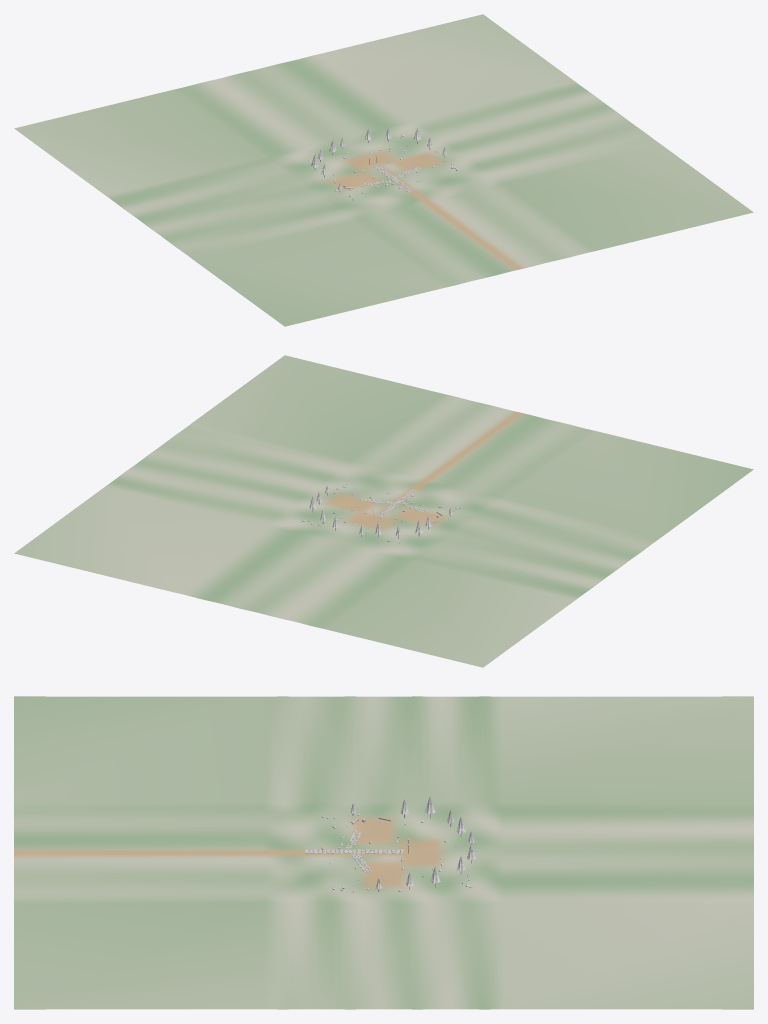
The model's file is Reboot_Environment.fbx.
3 renders of one model, top to bottom at view 1: azimuth 30°, elevation 25°; view 2: azimuth 150°, elevation 25°; view 3: azimuth 270°, elevation 25°, orthographic. The views are drawn at different scales.
Visible parts, largest first — view 1: Family_environment; view 2: Family_environment; view 3: Family_environment.
Part boxes in pixels (x1=…): Family_environment: x1=14, y1=14, x2=753, y2=326; Family_environment: x1=14, y1=355, x2=753, y2=667; Family_environment: x1=14, y1=696, x2=753, y2=1009.
Bounding box in the file's own units: 14400 × 508 × 14400.
